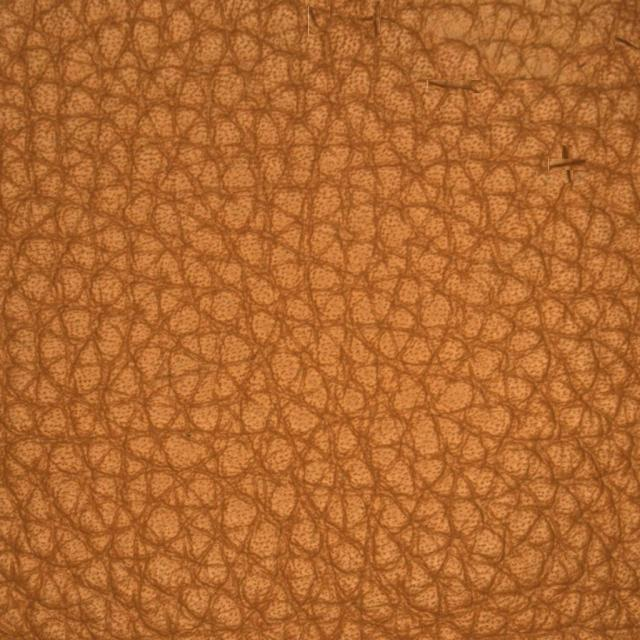Scratch: (388, 44, 504, 156), (527, 110, 615, 221)
